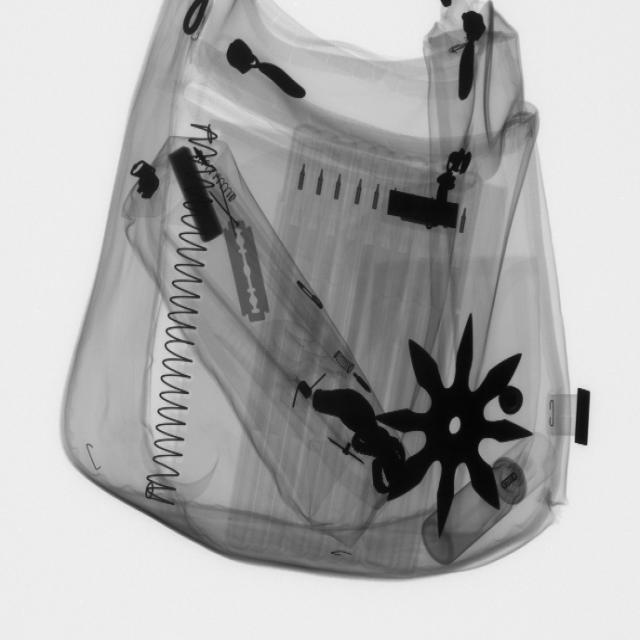BLADE: (223, 214, 275, 329)
SHURIKEN: (375, 314, 536, 535)
